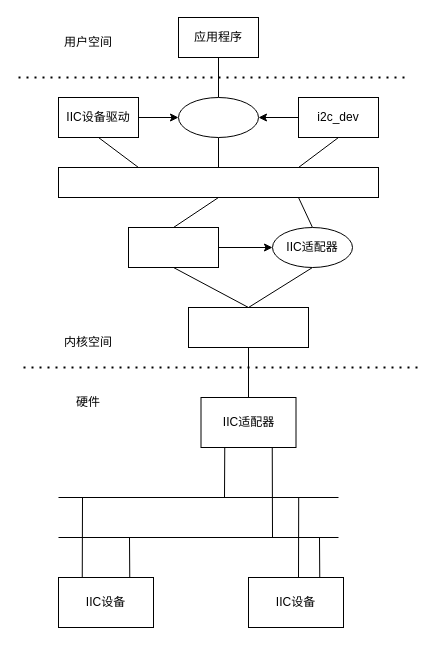
Some shapes in this 437 by 645 pixel diagram are drawn without their labels. The shapes that lost their labels are listed below. From the top down, each one's box as (x1, y1, x2, y2) in pixels, then its label:
(178, 96, 258, 138): 客户端
(58, 166, 378, 198): IIC核心
(128, 226, 218, 268): Algorithm
(188, 306, 308, 348): 与特定适配器硬件相关的代码
